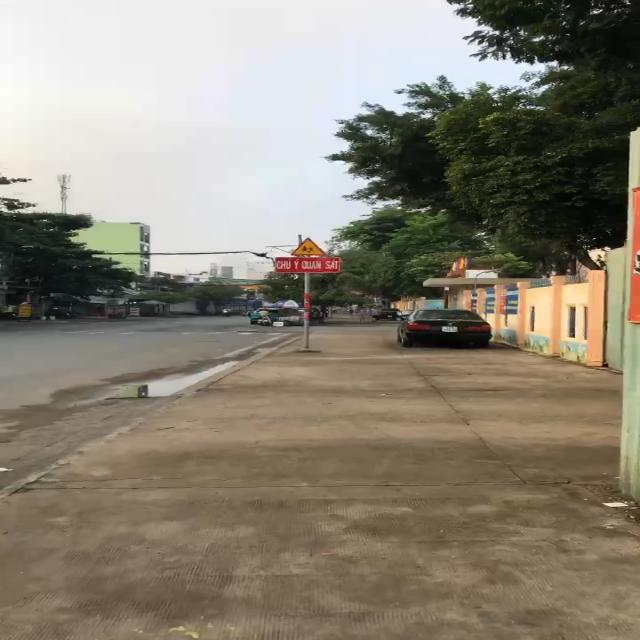Bien bao tre em: (290, 234, 330, 256)
